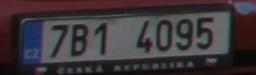0: (157, 19, 172, 51)
1: (95, 22, 106, 56)
4: (137, 21, 153, 53)
5: (197, 17, 213, 50)
7: (51, 25, 68, 58)
9: (177, 18, 193, 50)
B: (71, 24, 88, 56)
